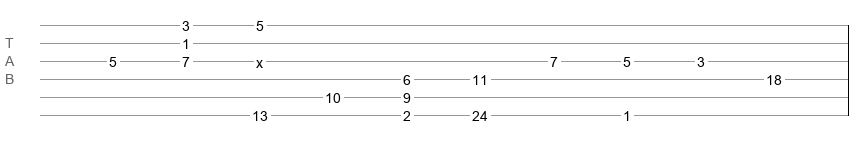1: (182, 36, 190, 46), (623, 108, 631, 118)
10: (325, 90, 341, 100)
11: (472, 72, 488, 82)
13: (252, 108, 268, 118)
18: (766, 72, 782, 82)
2: (403, 108, 411, 118)
24: (472, 108, 488, 118)
3: (182, 18, 190, 28), (697, 54, 705, 64)
5: (109, 54, 117, 64), (256, 18, 264, 28), (623, 54, 631, 64)
6: (403, 72, 411, 82)
7: (182, 54, 190, 64), (550, 54, 558, 64)
9: (403, 90, 411, 100)
x: (256, 55, 263, 63)
